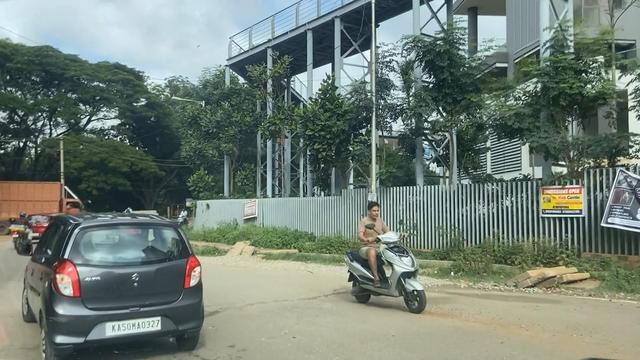LMV: (23, 215, 211, 360), (351, 203, 421, 315)
RoadDamages: (217, 285, 349, 318)
